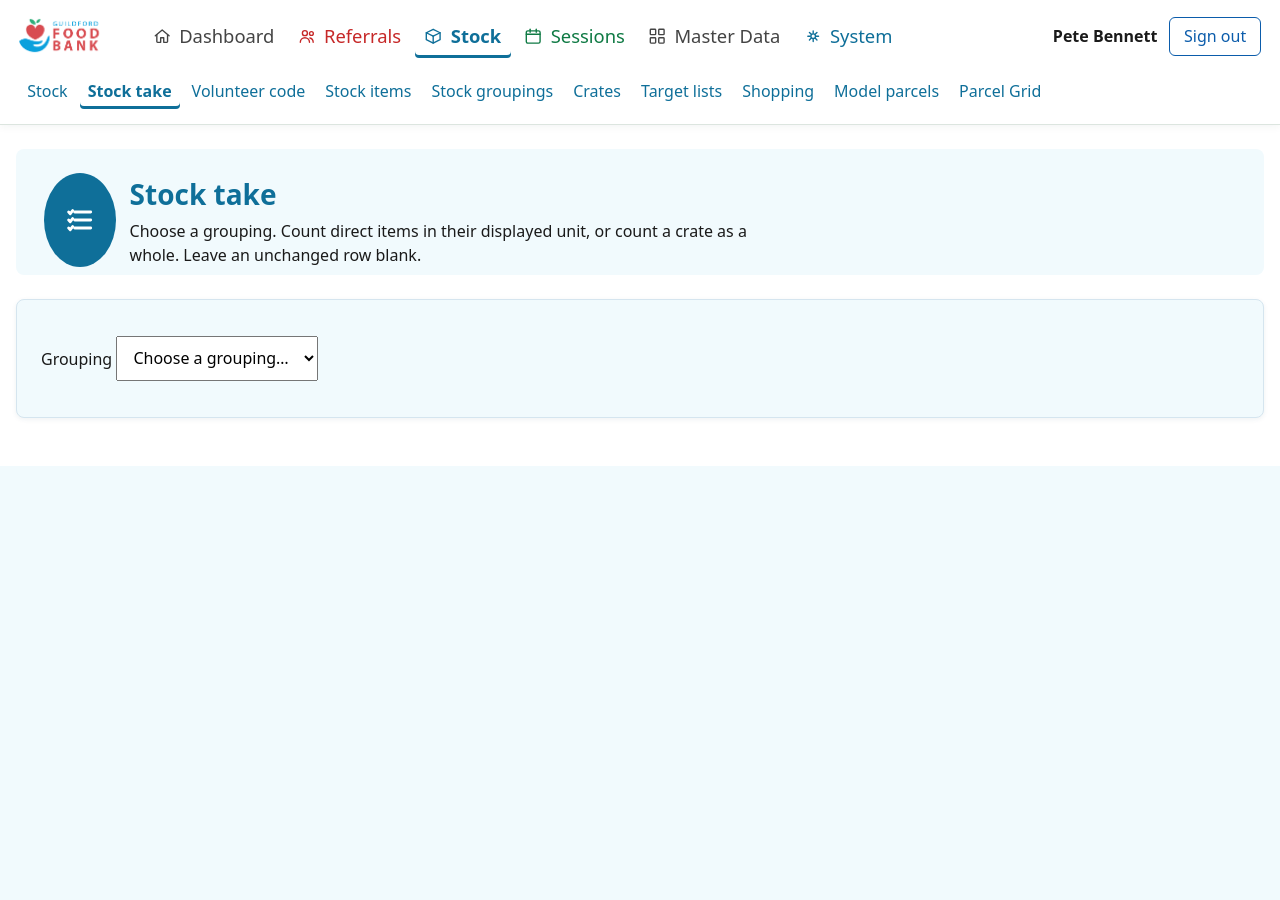
Scenario: saving a stock take page › sends only changed counts, including zero, to the one stock-take endpoint
Select "Non-perishable" in the dropdown labelled "Grouping" at (217, 358), box x1=116 y1=336 x2=318 y2=381
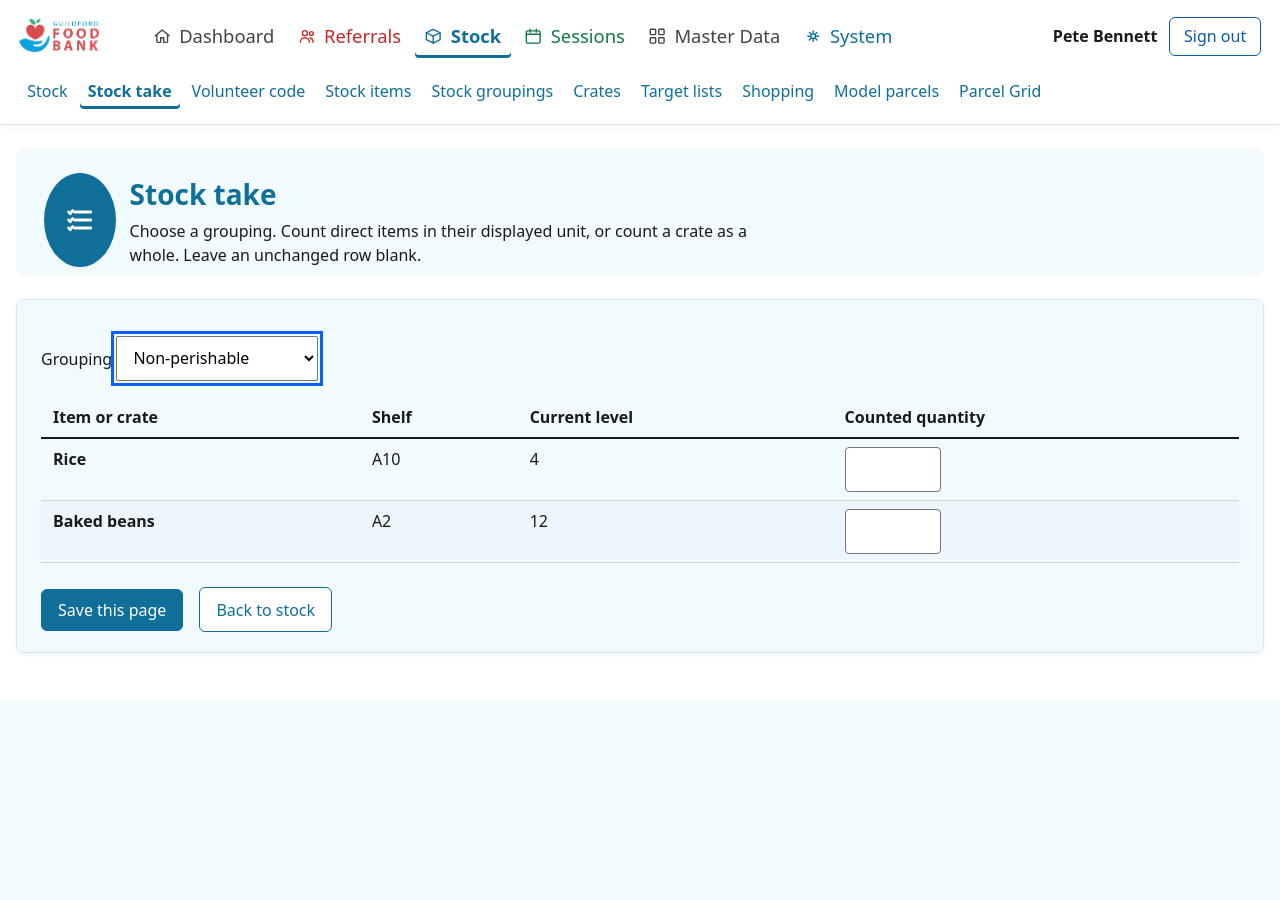
Type "9" into the field named "Counted Baked beans individually" in the row of "Baked beans".
click(892, 532); type("9")  # box x1=844 y1=509 x2=940 y2=554
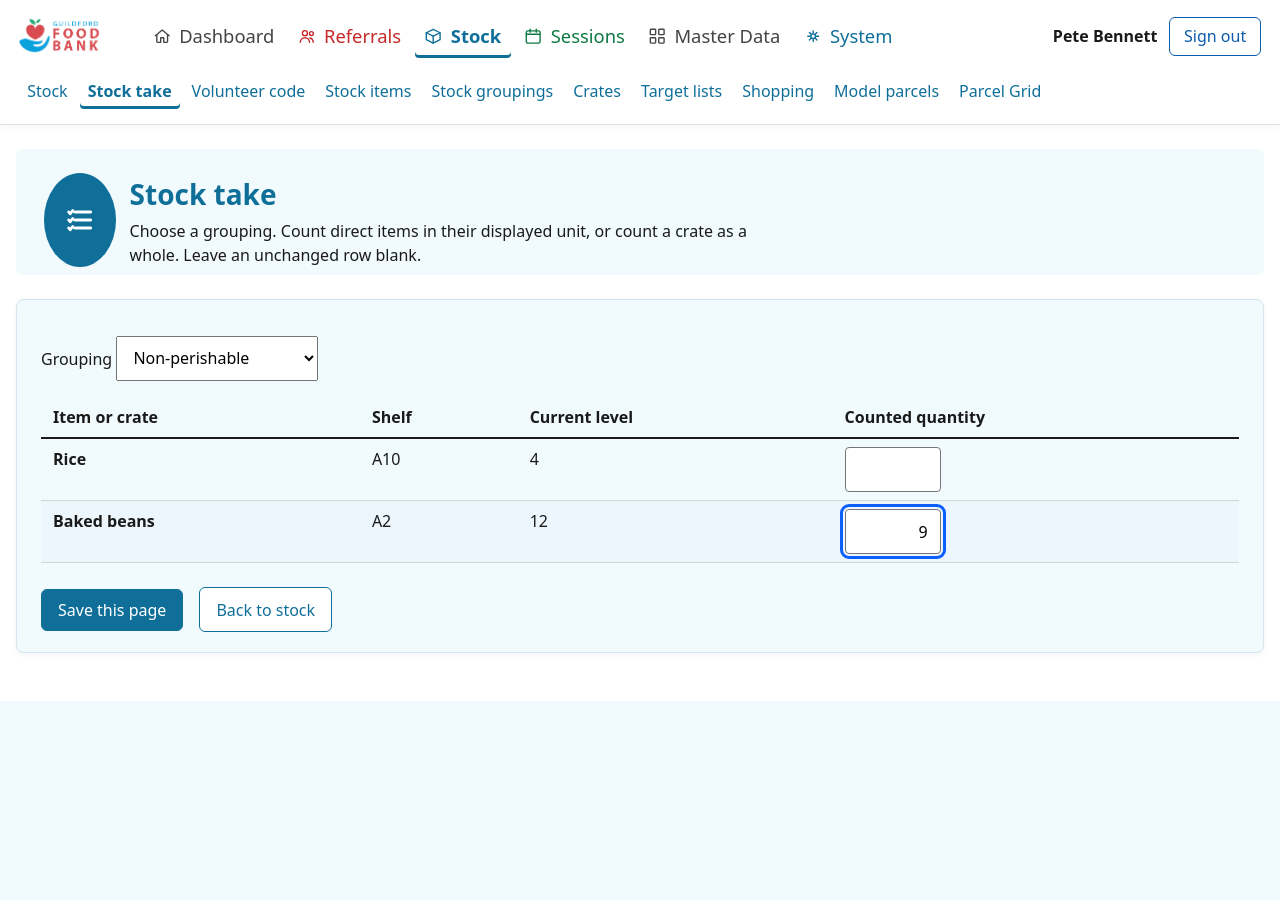
Type "0" into the field named "Counted Rice individually" in the row of "Rice".
click(892, 469); type("0")  # box x1=844 y1=447 x2=940 y2=492
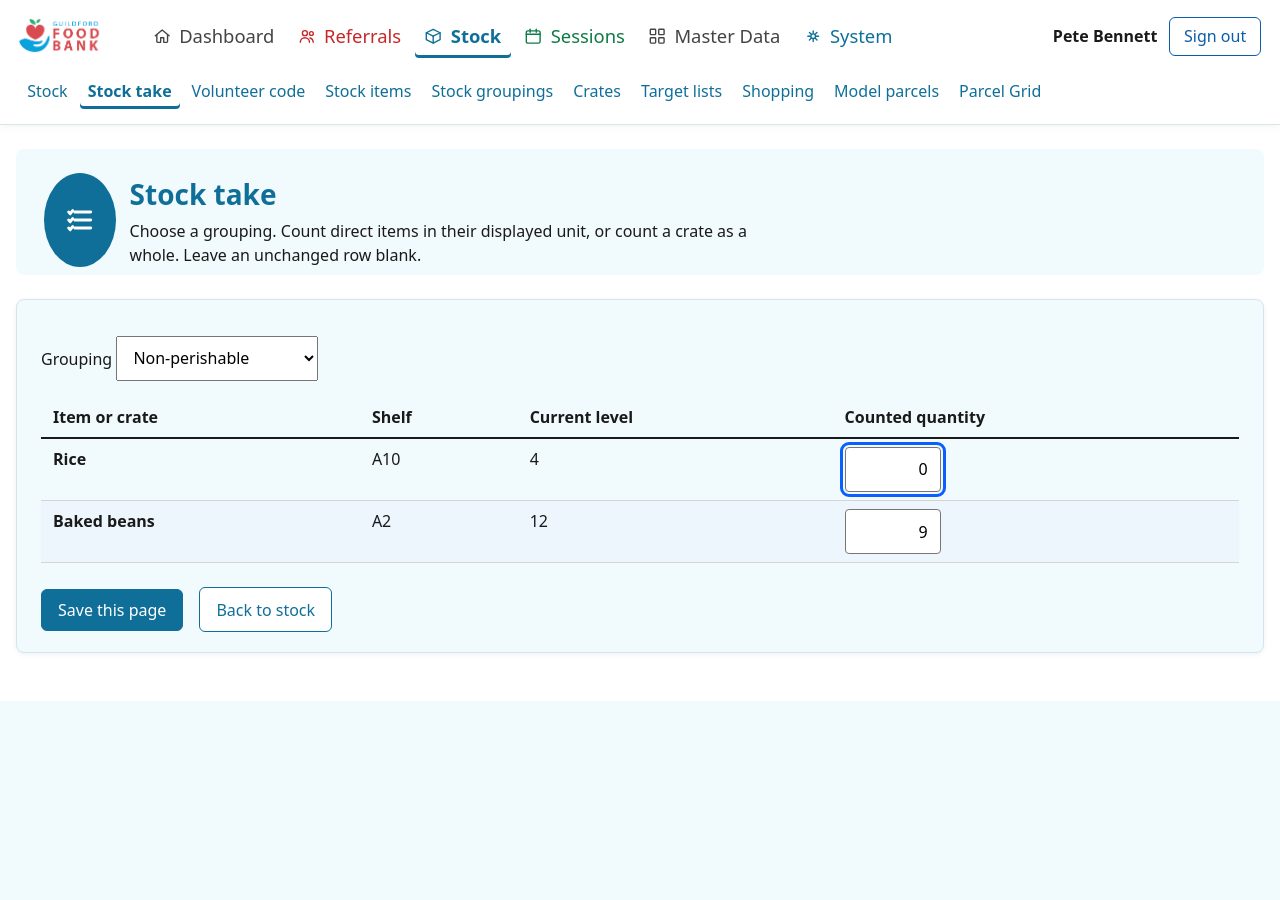
Click the button "Save this page".
click(112, 610)  # box x1=41 y1=589 x2=183 y2=631
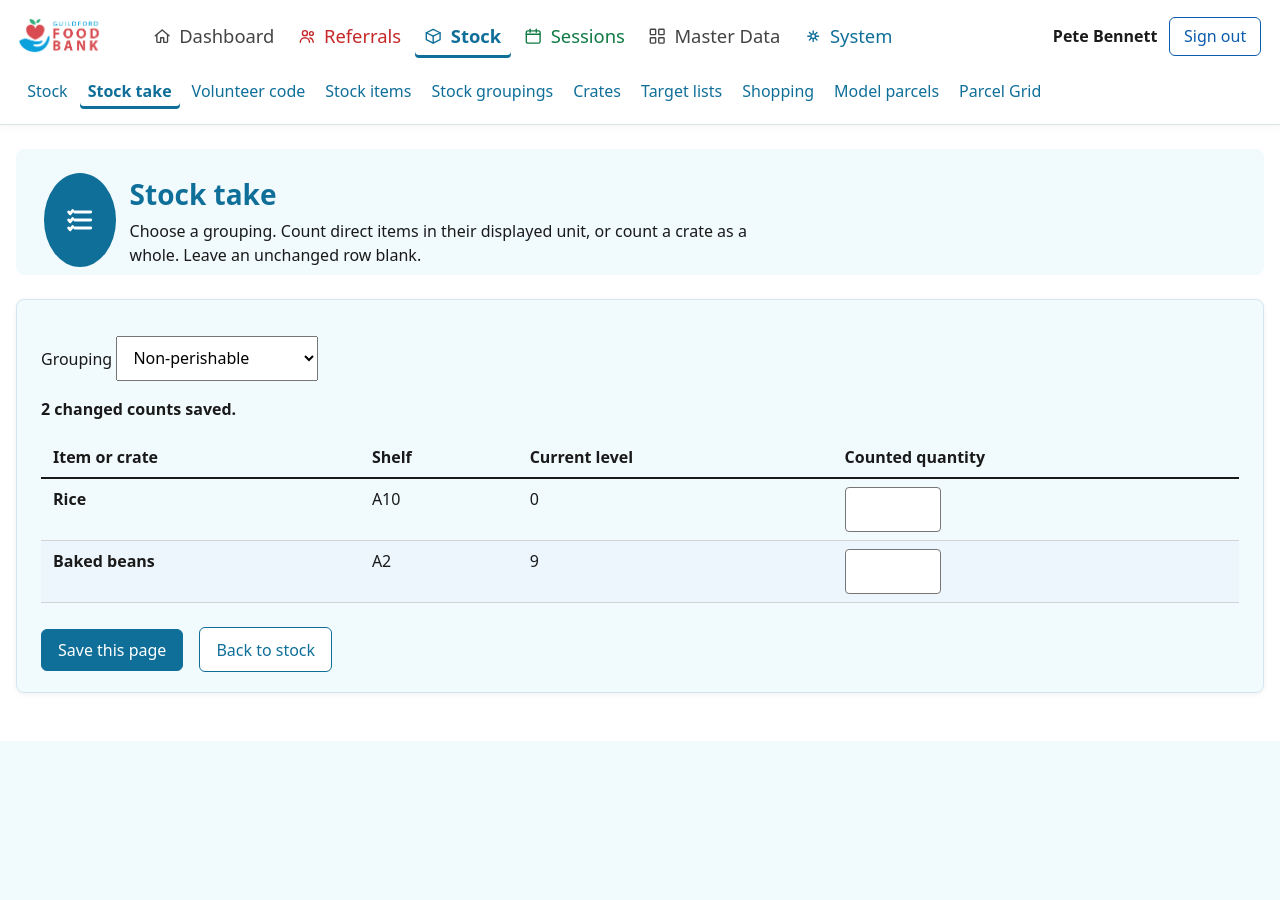
Now the text "2 changed counts saved." is shown, box x1=41 y1=398 x2=236 y2=420
